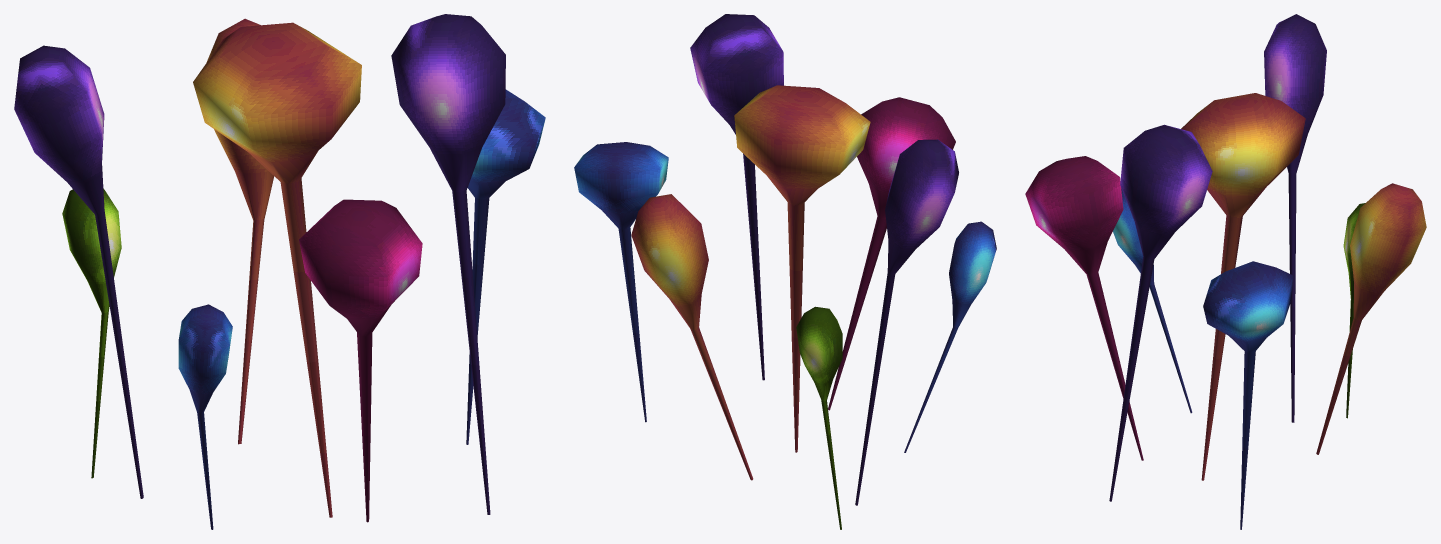
Rendered from t2_m_ara_dpl_plantBulbsMedium.fbx.
3 views of the same model, side by side, from view 1: azimuth 30°, elevation 25°; view 2: azimuth 150°, elevation 25°; view 3: azimuth 270°, elevation 25° (orthographic). The views are drawn at different scales.
Visible parts, largest first — view 1: t2_m_ara_dpl_plantBulbsMedium; view 2: t2_m_ara_dpl_plantBulbsMedium; view 3: t2_m_ara_dpl_plantBulbsMedium.
Part boxes in pixels (x1,y1,x2,y2): t2_m_ara_dpl_plantBulbsMedium: [14, 14, 545, 529]; t2_m_ara_dpl_plantBulbsMedium: [574, 14, 996, 529]; t2_m_ara_dpl_plantBulbsMedium: [1025, 14, 1426, 529].
Bounding box in the file's own units: 1.44 × 1.38 × 1.29.
